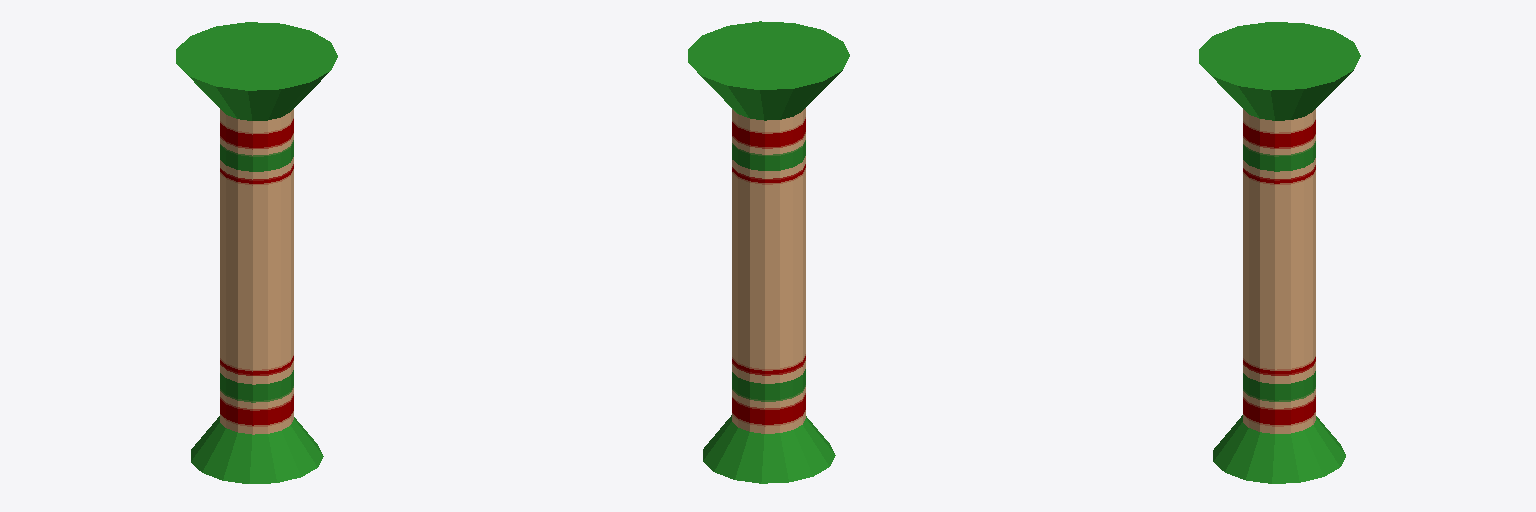
3 renders of one model, left to right at view 1: azimuth 30°, elevation 25°; view 2: azimuth 150°, elevation 25°; view 3: azimuth 270°, elevation 25°, orthographic.
Bounding box in the file's own units: 4.36 × 11.79 × 4.33.
1 materials, 1 textured.